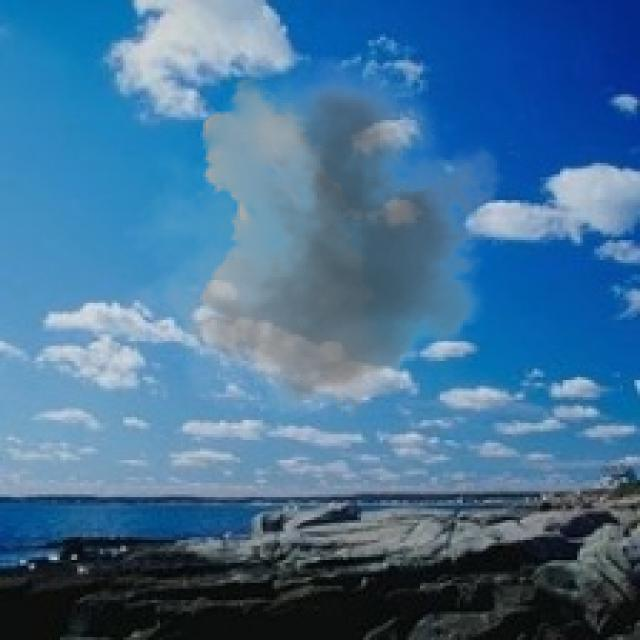Smoke: (120, 54, 520, 432)
